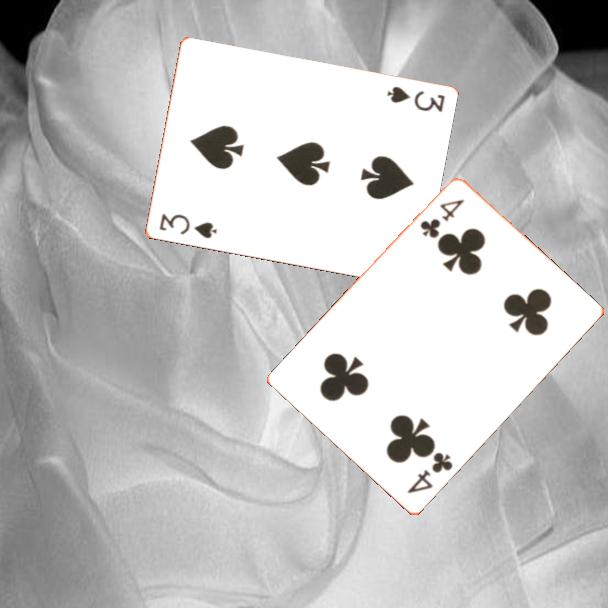c04: (403, 449, 456, 497), (416, 196, 467, 242)
s03: (155, 210, 220, 242), (383, 83, 448, 115)
